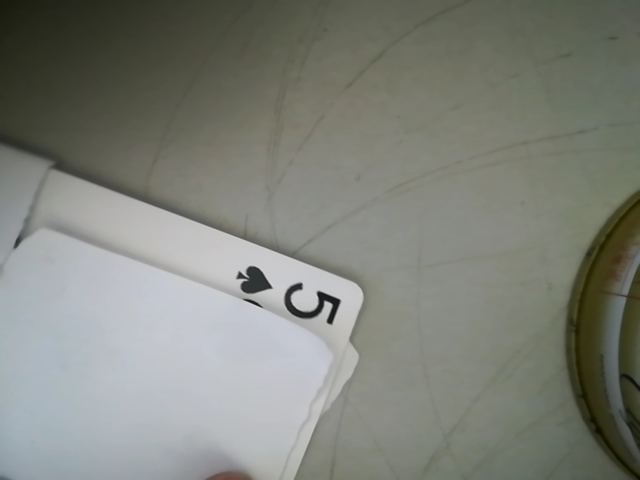ht 5: (226, 254, 361, 330)
